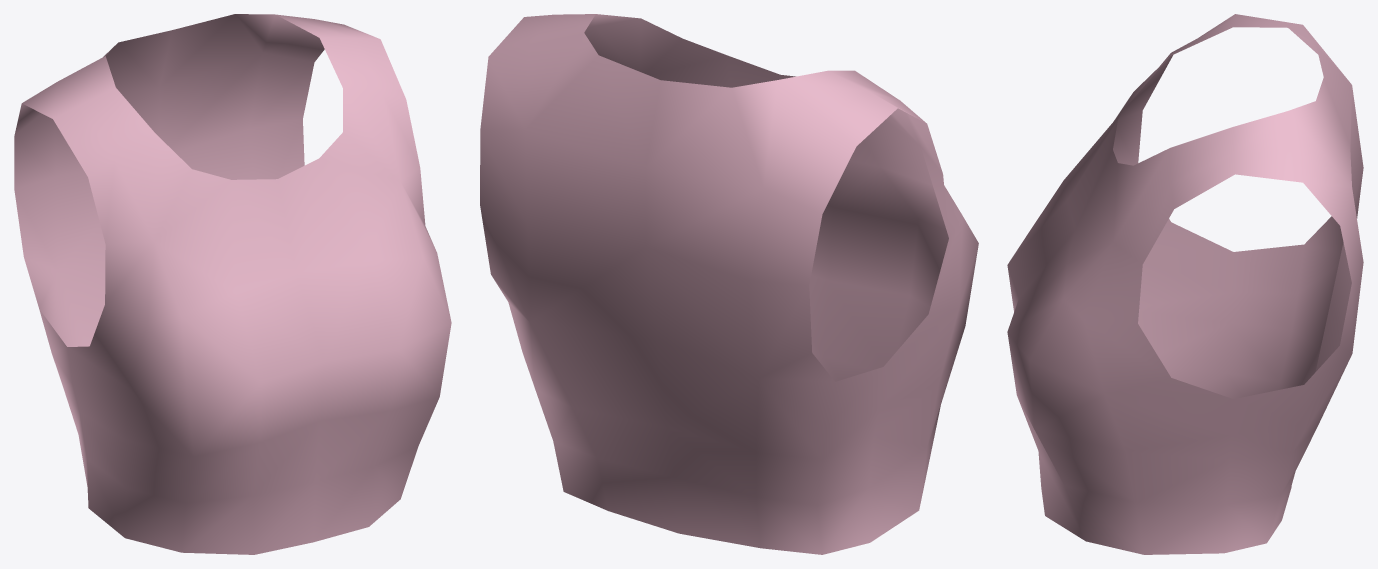
File: Blouse_basic.glb
3 renders of one model, left to right at view 1: azimuth 30°, elevation 25°; view 2: azimuth 150°, elevation 25°; view 3: azimuth 270°, elevation 25°, orthographic. The views are drawn at different scales.
Parts seen in each view (by area): view 1: BLOUSE_1_butterfly_hoodie_Cube.001_Cube.003; view 2: BLOUSE_1_butterfly_hoodie_Cube.001_Cube.003; view 3: BLOUSE_1_butterfly_hoodie_Cube.001_Cube.003.
Part boxes in pixels (x1,y1,x2,y2): BLOUSE_1_butterfly_hoodie_Cube.001_Cube.003: [14, 14, 451, 554]; BLOUSE_1_butterfly_hoodie_Cube.001_Cube.003: [480, 14, 978, 554]; BLOUSE_1_butterfly_hoodie_Cube.001_Cube.003: [1007, 14, 1363, 554].
Size of the model in its own units: 0.2732 by 0.3323 by 0.2564.
